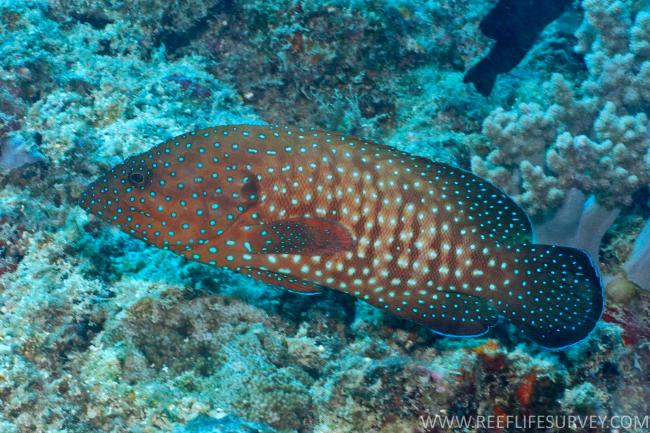fish: (77, 125, 604, 349)
